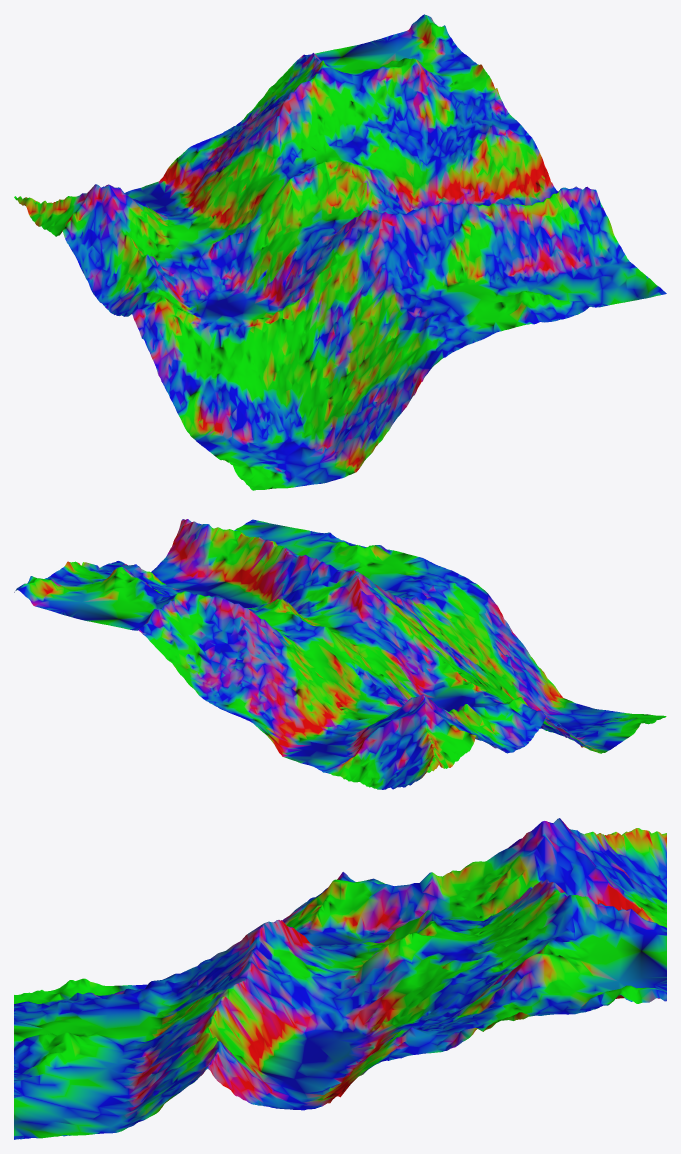
3 renders of one model, top to bottom at view 1: azimuth 30°, elevation 25°; view 2: azimuth 150°, elevation 25°; view 3: azimuth 270°, elevation 25°, orthographic. The views are drawn at different scales.
Parts seen in each view (by area): view 1: E_5_3; view 2: E_5_3; view 3: E_5_3.
Part boxes in pixels (box(x1,y1,x2,y2)): E_5_3: box(14, 14, 666, 490); E_5_3: box(14, 519, 666, 789); E_5_3: box(14, 818, 666, 1139).
Size of the model in its own units: 819 by 413 by 819.
